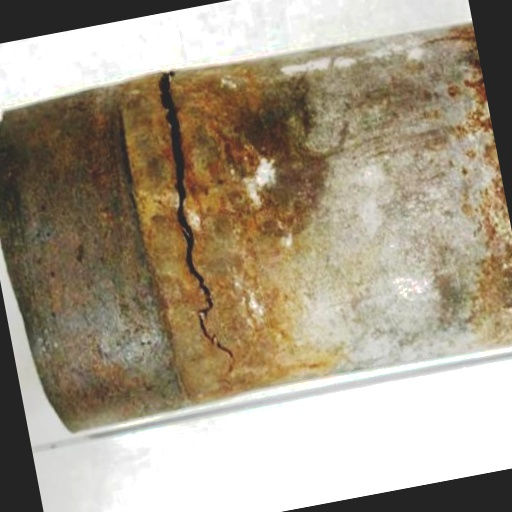crack: (130, 66, 245, 386)
